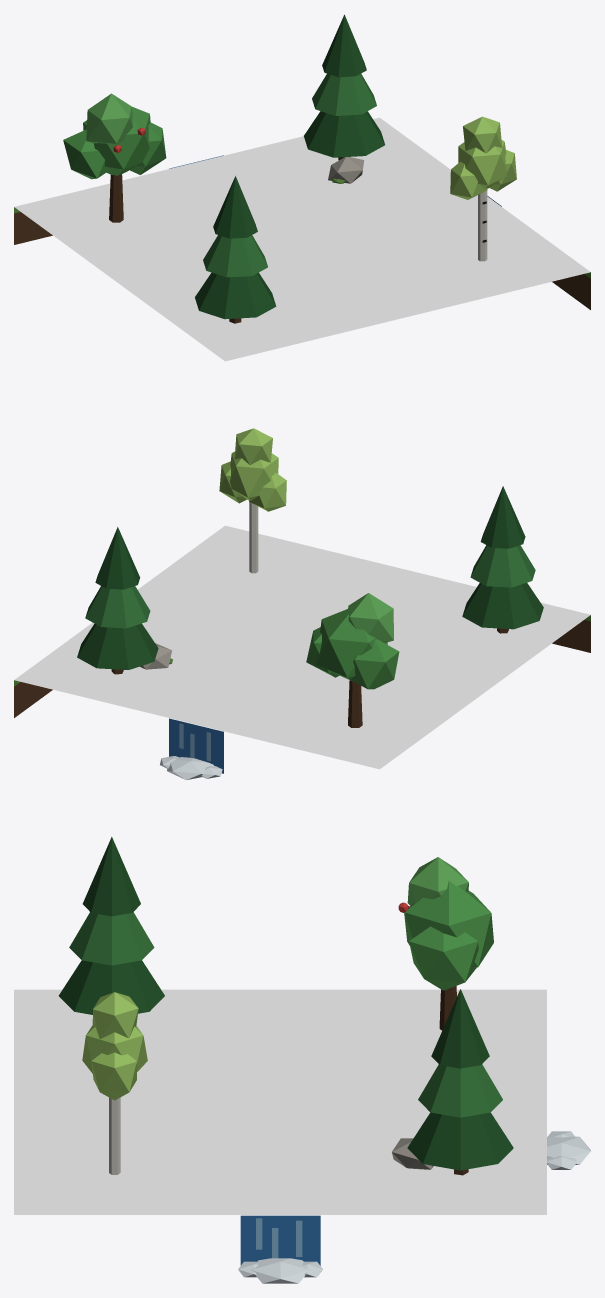
Rendered from wRC.glb.
3 views of the same model, one above another, from view 1: azimuth 30°, elevation 25°; view 2: azimuth 150°, elevation 25°; view 3: azimuth 270°, elevation 25° (orthographic). The views are drawn at different scales.
Parts seen in each view (by area): view 1: wRC; view 2: wRC, fall_N; view 3: wRC, fall_E, fall_N.
Part boxes in pixels (<box>): wRC: <box>14,14,590,361</box>; wRC: <box>14,428,590,769</box>; fall_N: <box>160,718,223,779</box>; wRC: <box>14,836,546,1214</box>; fall_E: <box>238,1215,322,1283</box>; fall_N: <box>547,1131,590,1169</box>.
Size of the model in its own units: 2.17 by 0.9925 by 2.16.
